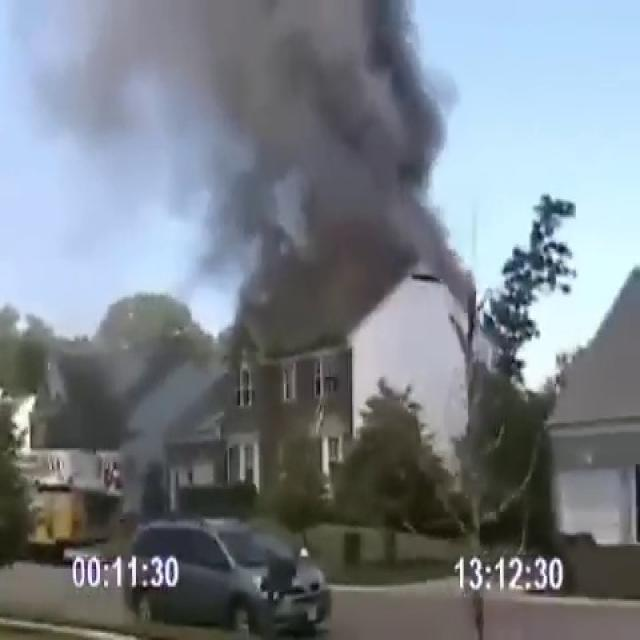Smoke: (10, 0, 470, 352)
